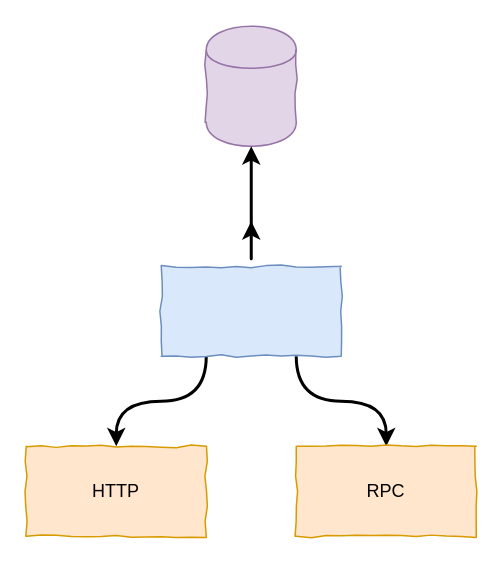
Some shapes in this 503 by 563 pixel diagram are drawn without their labels. The centre of each missing label's shape, as x and y in pixels:
ffly-plus: pixel 250 310
MySQL: pixel 250 85
